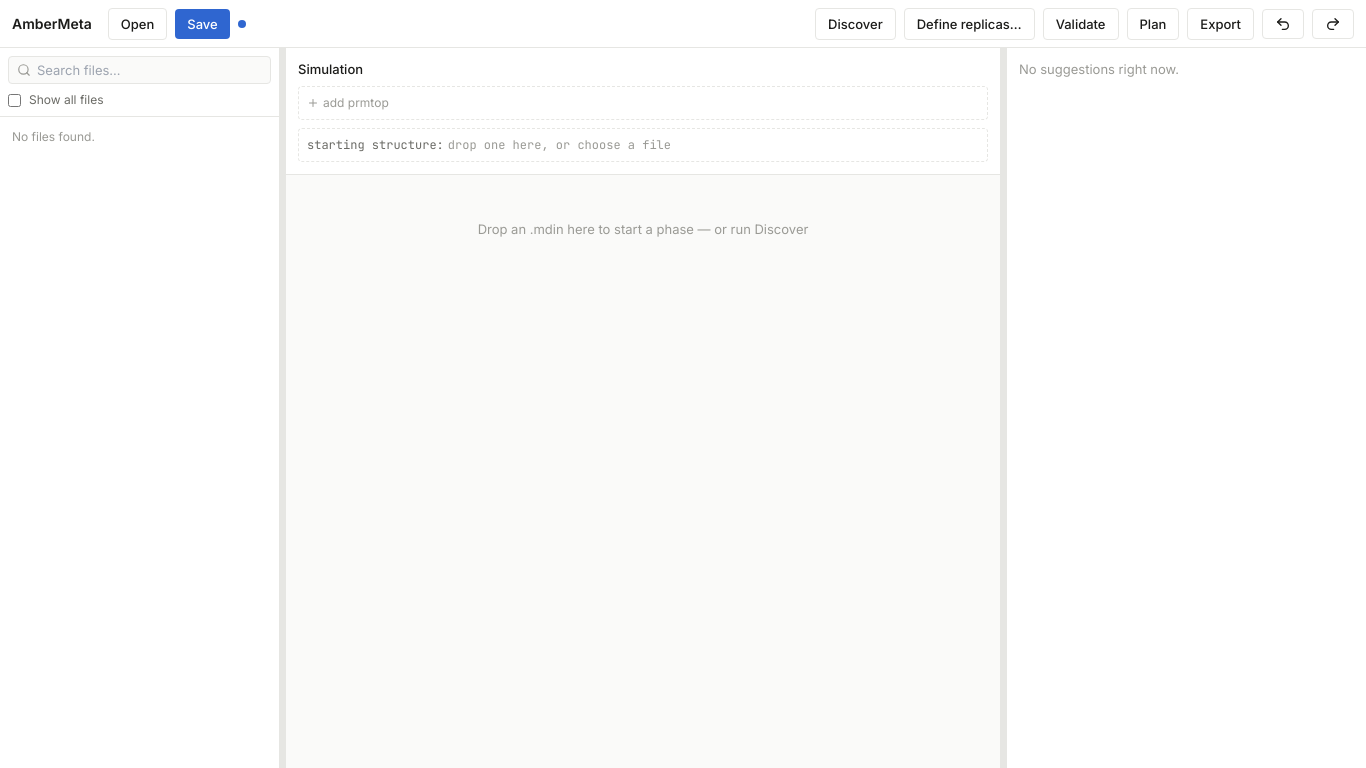
it: says where the manifest was saved, instead of only dropping the dirty dot
The width and height of the screenshot is (1366, 768).
expect the element with test id "pane-canvas" is shown: met, box [286,48,1000,237]
Click the button "Save" at (202, 24), box [175,8,230,38]
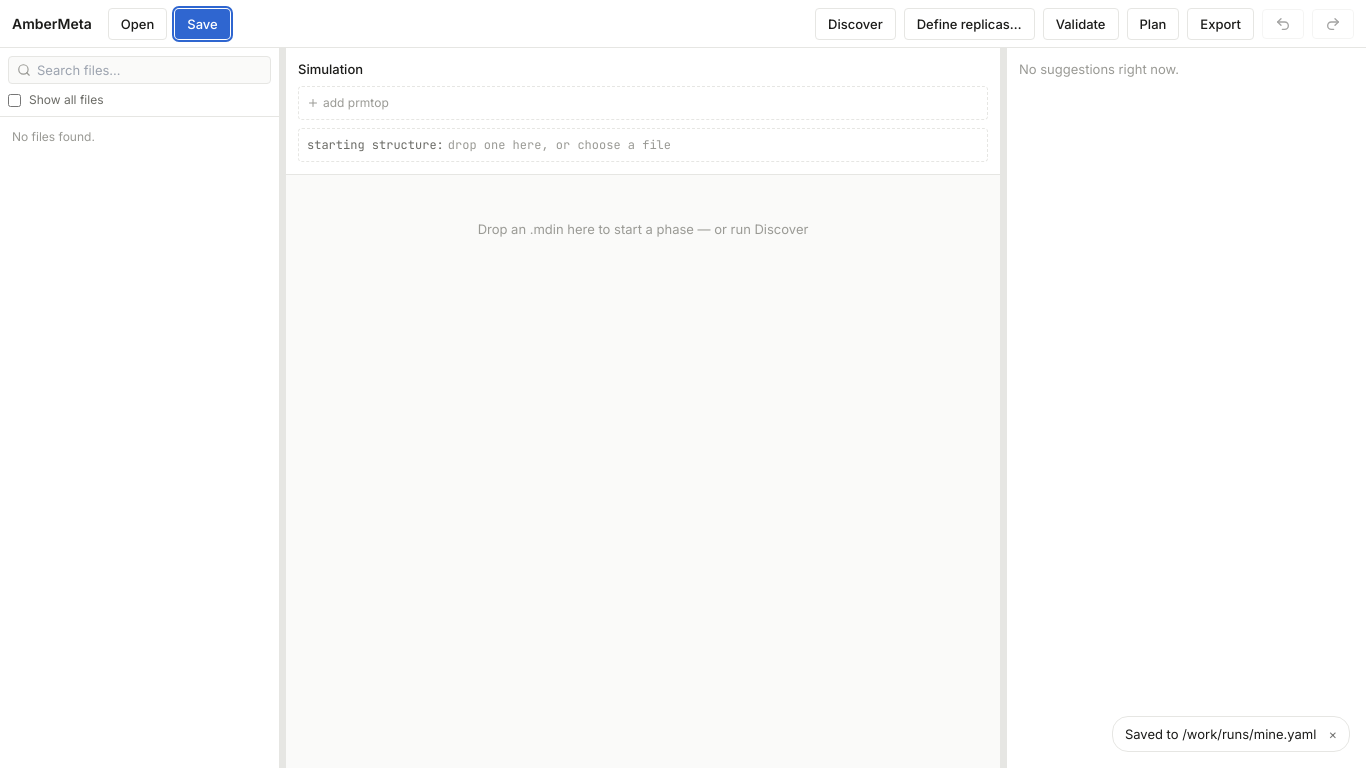
expect the text "Saved to /work/runs/mine.yaml" is shown: met, box [1125,725,1316,743]
